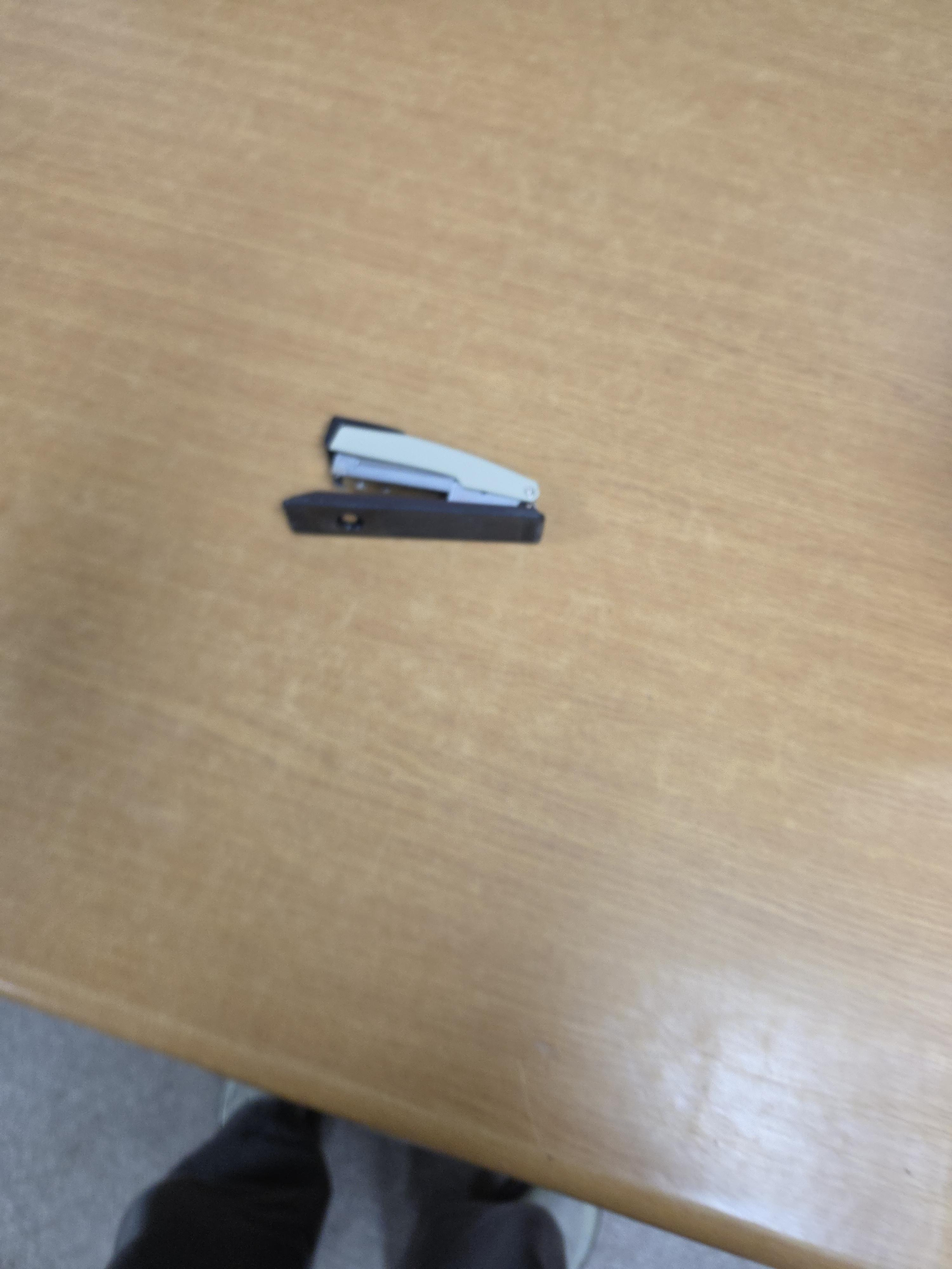stapler: (279, 416, 548, 547)
